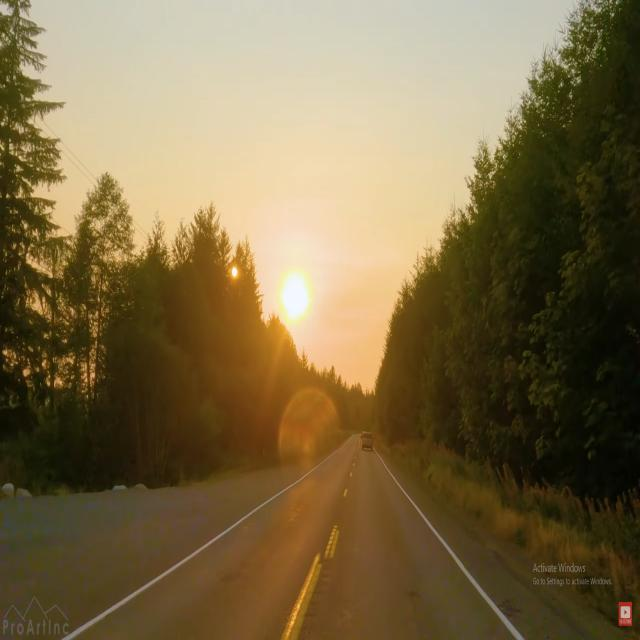sun: (276, 259, 316, 330)
